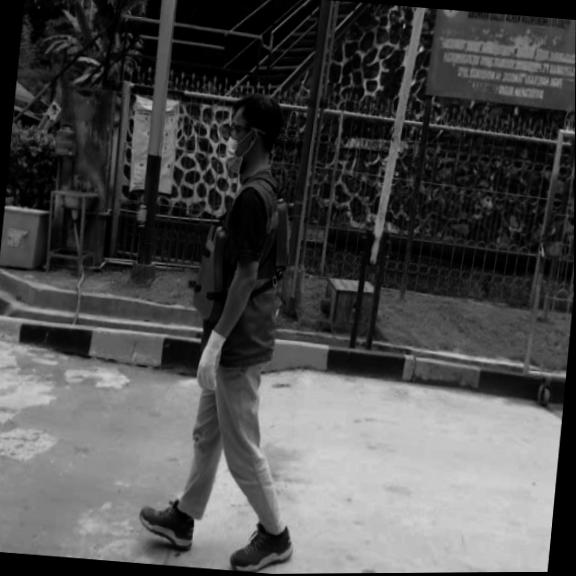safety_vest: (190, 188, 296, 331)
